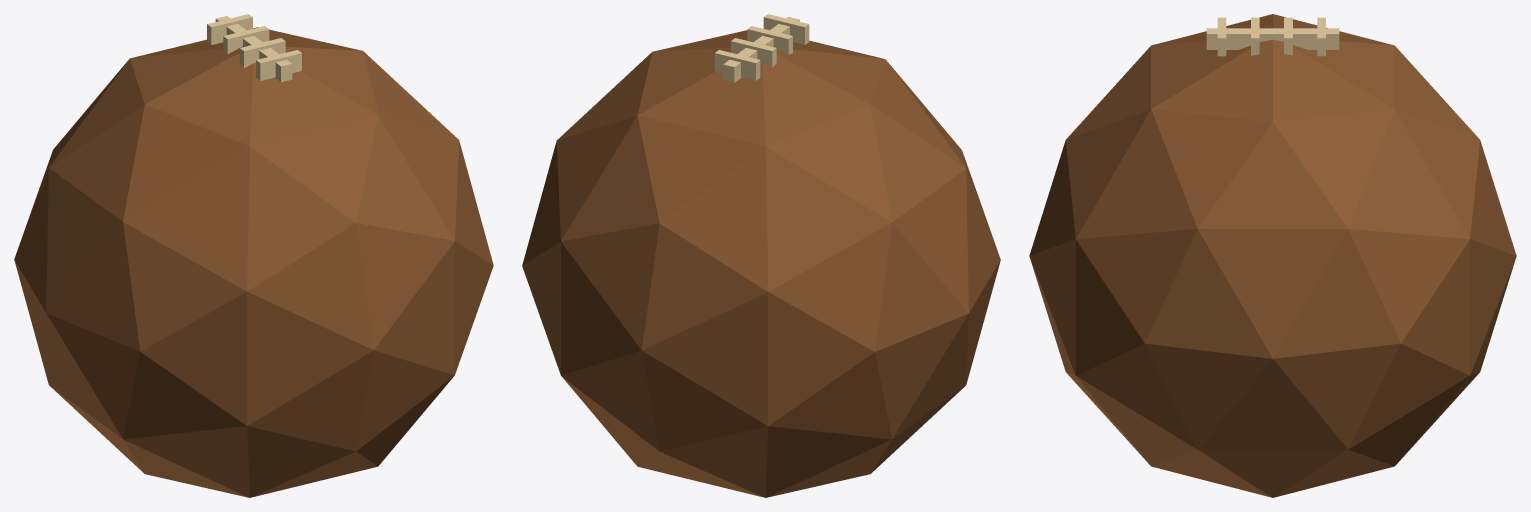
File: vintage-football.glb
The picture shows the model from 3 angles, left to right: view 1: azimuth 30°, elevation 25°; view 2: azimuth 150°, elevation 25°; view 3: azimuth 270°, elevation 25°; orthographic projection.
Visible parts, largest first — view 1: vintage_football; view 2: vintage_football; view 3: vintage_football.
Part boxes in pixels (x1=…): vintage_football: x1=14, y1=14, x2=493, y2=497; vintage_football: x1=522, y1=14, x2=1000, y2=497; vintage_football: x1=1029, y1=14, x2=1516, y2=497.
Size of the model in its own units: 0.22 by 0.2235 by 0.22.
